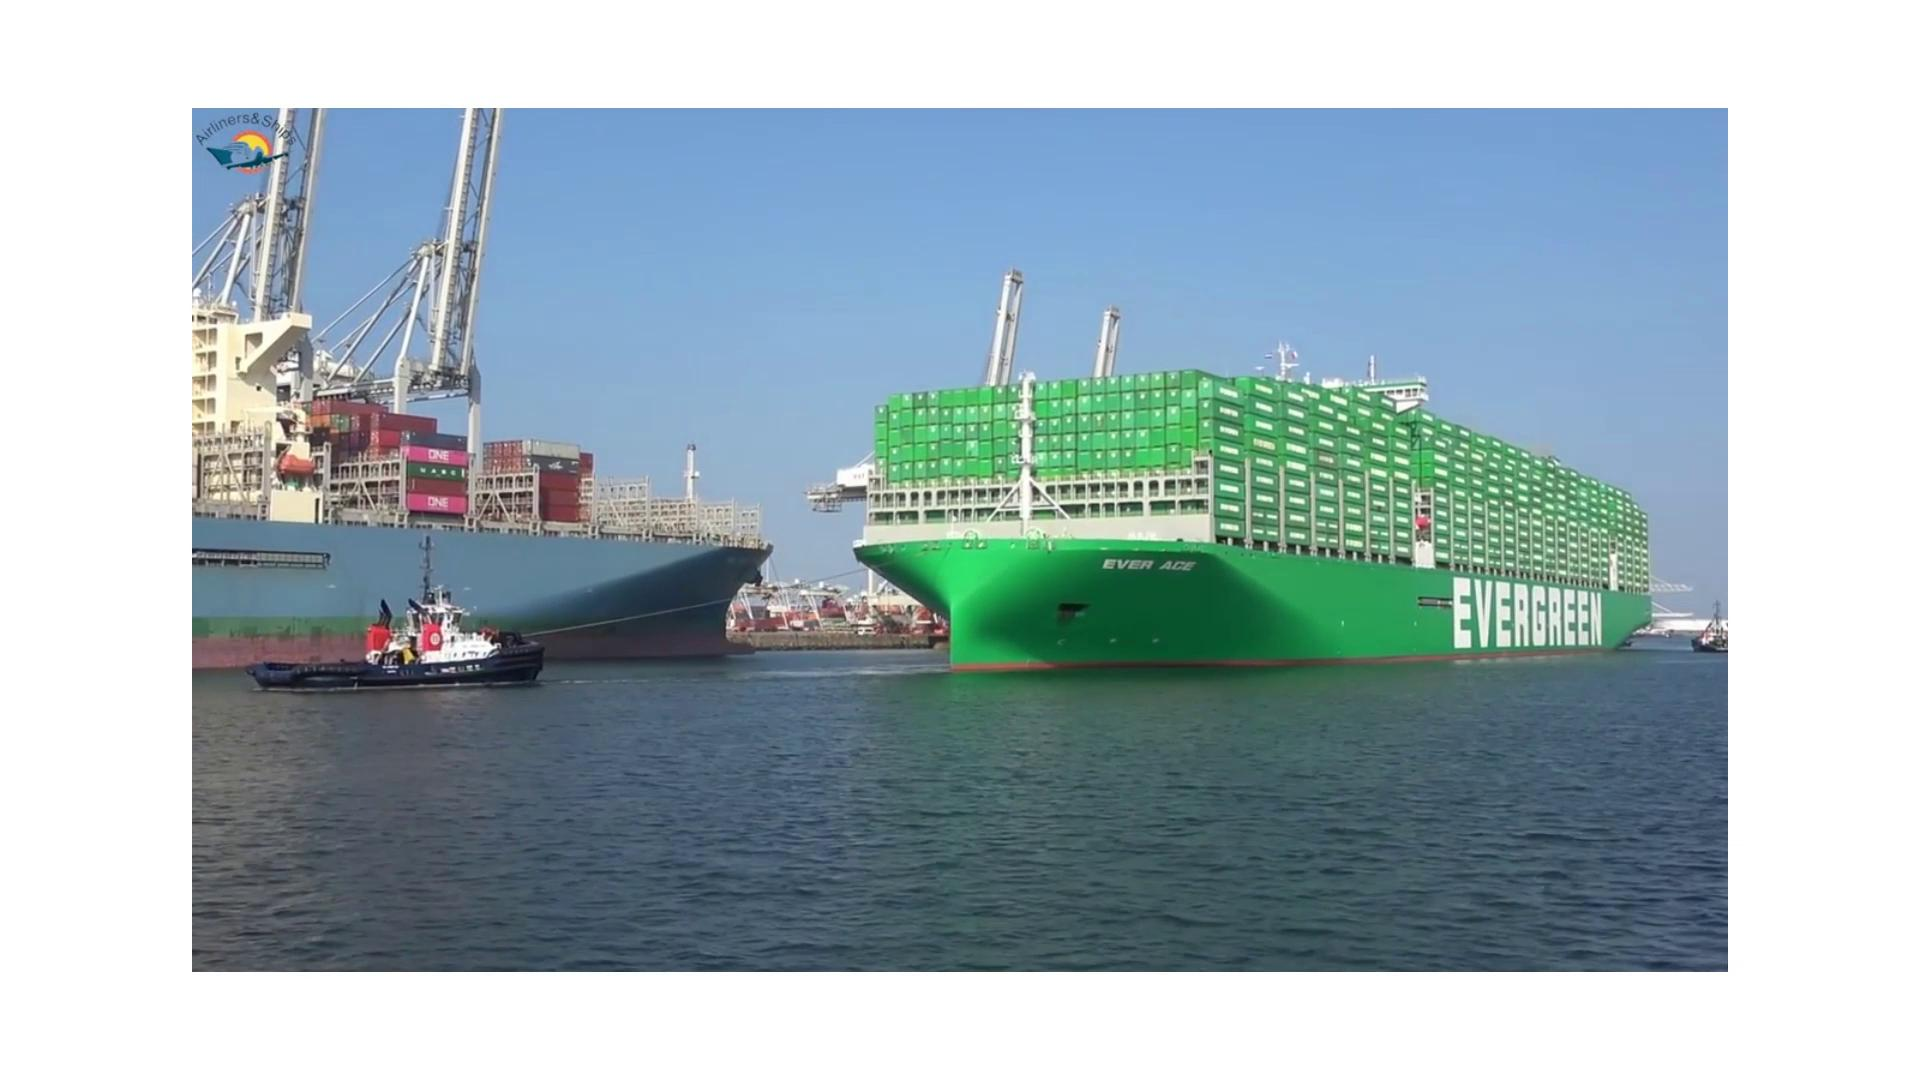OCR: (1428, 545, 1622, 671), (1085, 533, 1201, 588)
